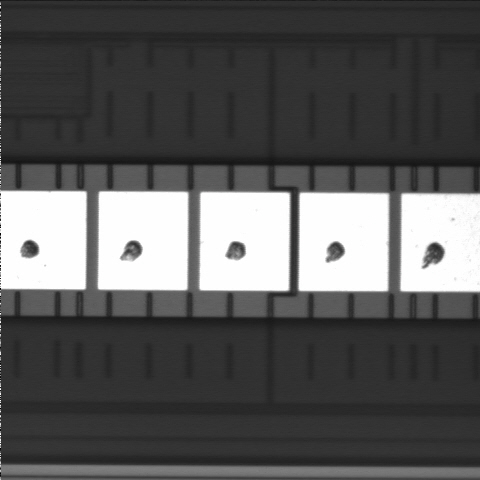pad: (199, 192, 290, 291), (98, 192, 188, 290), (299, 193, 389, 291)
